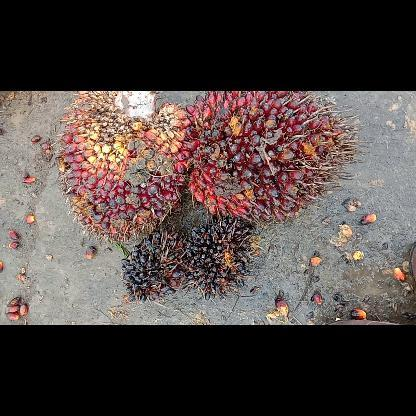TBS abnormal: (186, 211, 263, 301), (118, 226, 194, 304)
TBS masak: (183, 91, 372, 225), (54, 91, 194, 247)
